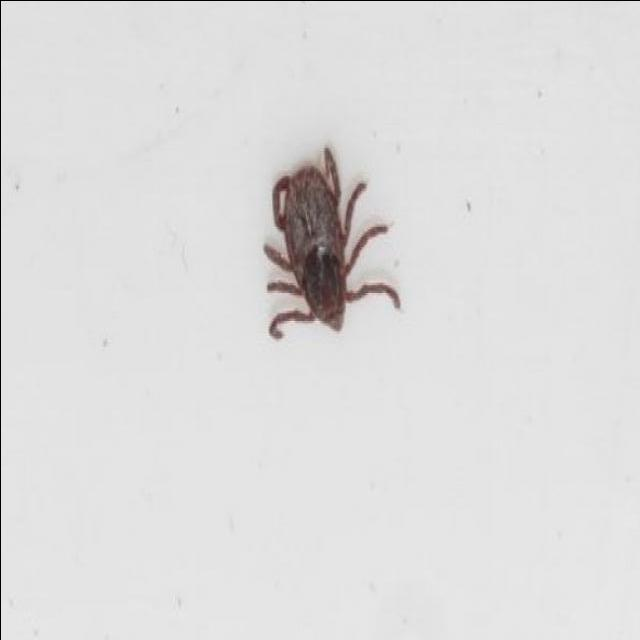Rhipicephalus Sanguineus-F: (262, 144, 400, 343)
